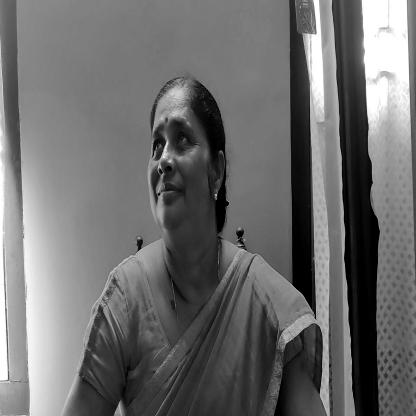Distracted: (150, 78, 222, 235)
